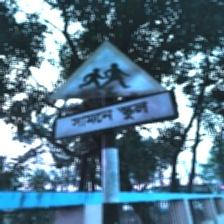School-in-front: (49, 39, 178, 141)
